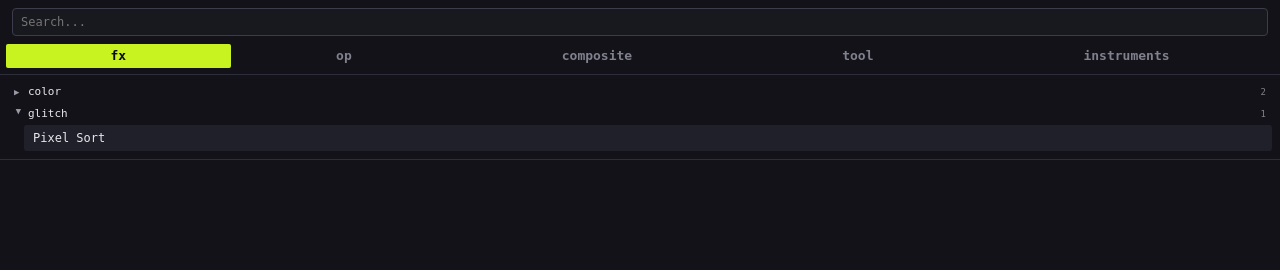
Scenario: P3.2/P3.5 — [instruments] tab › tab switch to instruments shows real InstrumentsBrowser (P3.5 fill)
Click the tab with test id "browser-tab-instruments": (1127, 56) [979,44,1274,68]
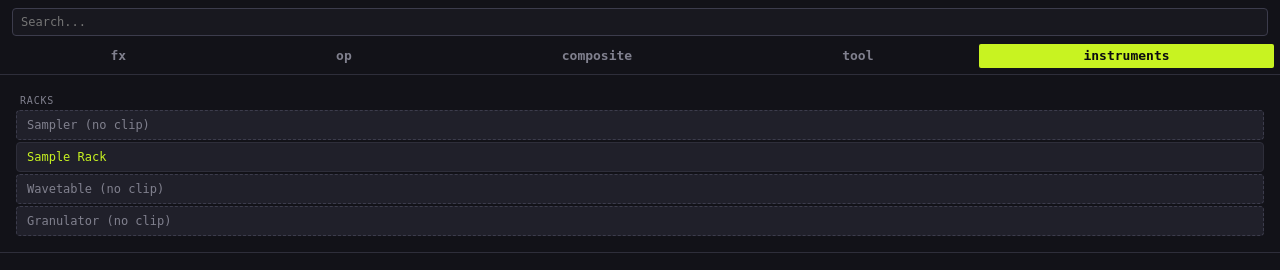
Check: the element with test id "instruments-browser" is shown, box [8,81,1272,244]
Check: the text "Sample Rack" is shown, box [16,142,1264,172]
Check: the text "Sampler (no clip)" is shown, box [16,110,1264,140]
